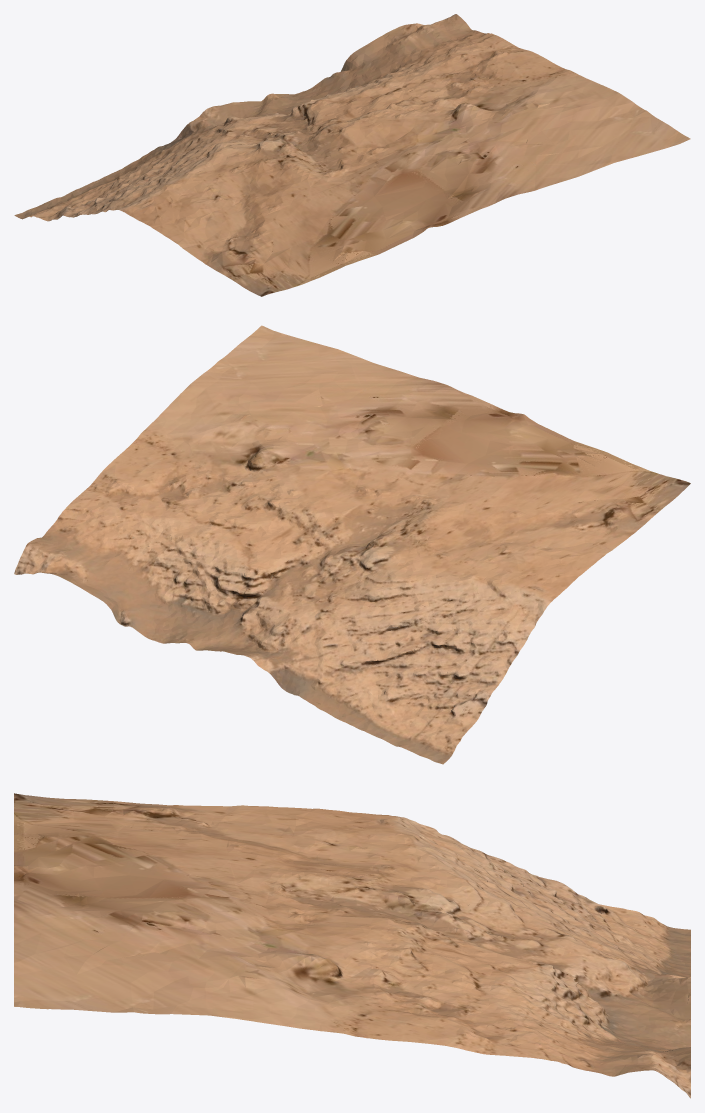
3 views of the same model, one above another, from view 1: azimuth 30°, elevation 25°; view 2: azimuth 150°, elevation 25°; view 3: azimuth 270°, elevation 25° (orthographic). The views are drawn at different scales.
Size of the model in its own units: 2.09 by 0.7118 by 2.09.
2 materials, 2 textured.
